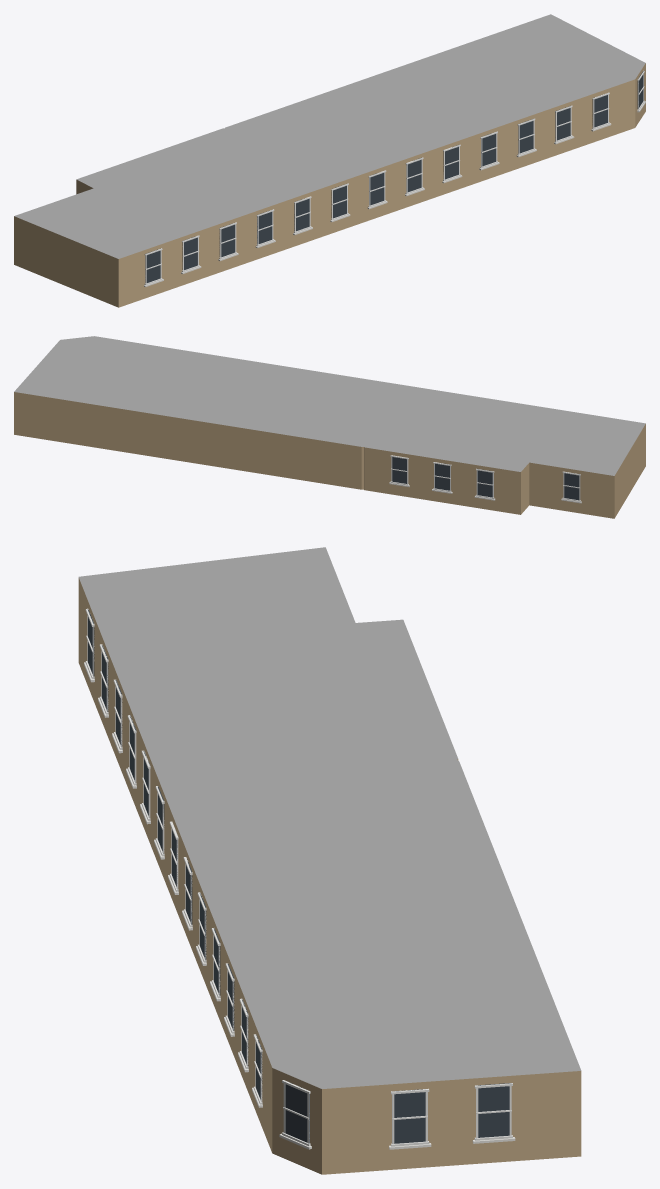
The model's file is level-2.glb.
The picture shows the model from 3 angles, top to bottom: view 1: azimuth 30°, elevation 25°; view 2: azimuth 150°, elevation 25°; view 3: azimuth 270°, elevation 25°; orthographic projection. The views are drawn at different scales.
Visible parts, largest first — view 1: building, facade; view 2: building, facade; view 3: building, facade.
Boxes of the visible parts, box(x1,y1,x2,y2) form: building: box(14, 14, 645, 307); facade: box(144, 70, 645, 287); building: box(14, 336, 645, 518); facade: box(389, 455, 581, 503); building: box(78, 547, 581, 1174); facade: box(84, 608, 515, 1149).
Size of the model in its own units: 40.71 by 3 by 15.97.
